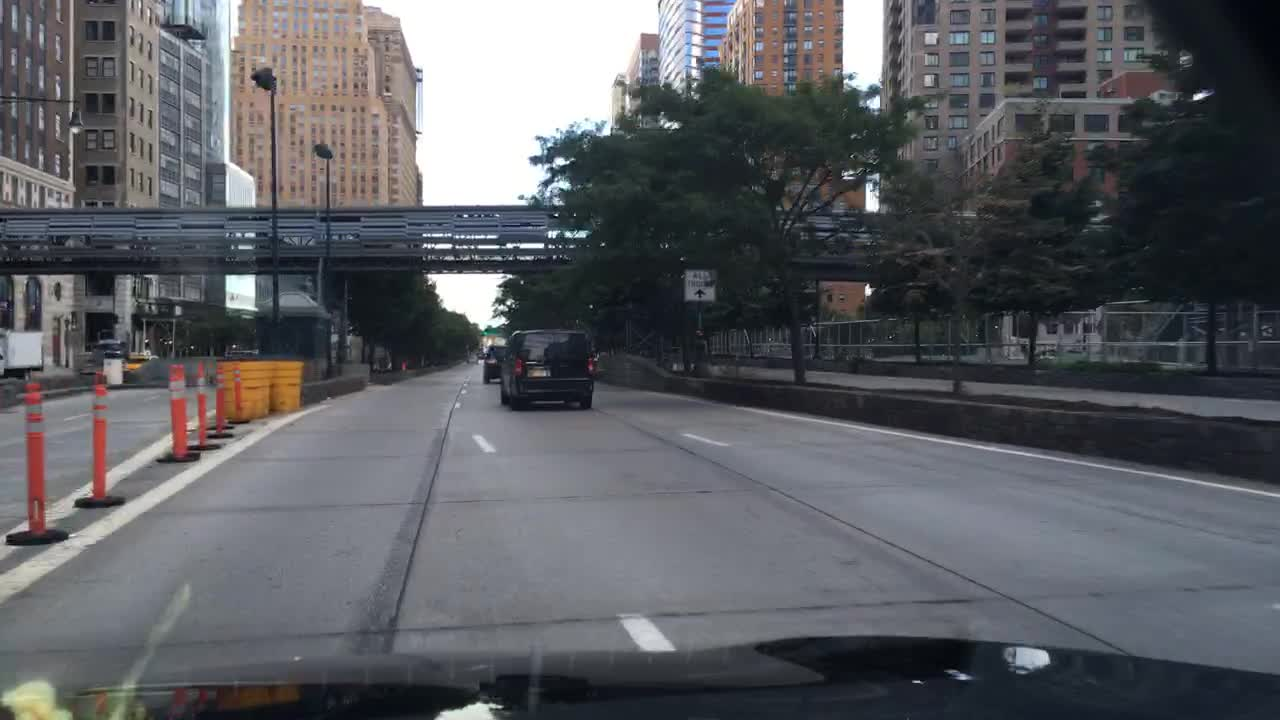car: (497, 325, 599, 411), (480, 342, 511, 384), (125, 353, 161, 383), (92, 337, 129, 361), (222, 347, 258, 360), (474, 347, 490, 360)
traffic sign: (682, 267, 719, 304)
